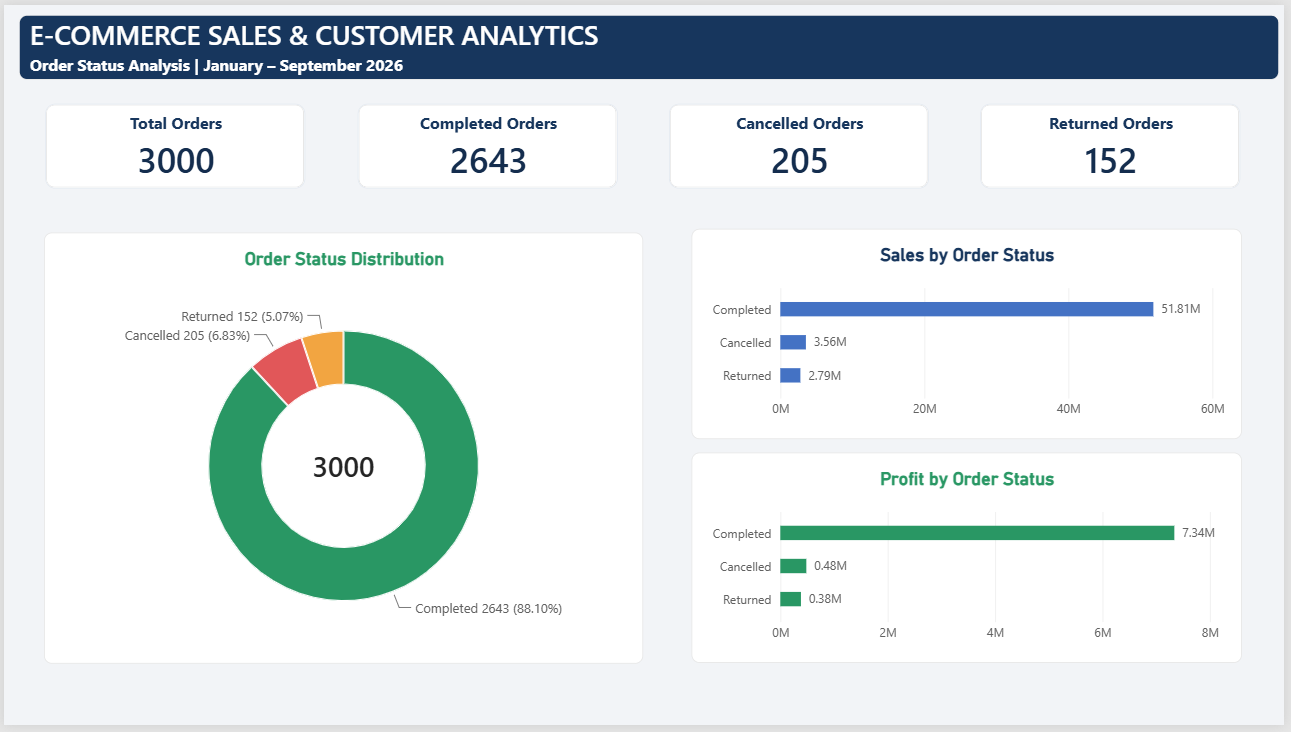

This screenshot's page, from the dashboard's own definition file:
{"tool":"powerbi","page":{"name":"Order_Status_Analysis","canvas":[1280,720],"ordinal":4},"visuals":[{"type":"clusteredBarChart","title":"Profit by Order Status","fields":{"Category":["ecommerce_sales_cleaned.Order Status"],"Y":["Sum(ecommerce_sales_cleaned.Profit)"]},"box":[688,448,550,210],"z":0},{"type":"clusteredBarChart","title":"Sales by Order Status","fields":{"Category":["ecommerce_sales_cleaned.Order Status"],"Y":["Sum(ecommerce_sales_cleaned.Sales)"]},"box":[688,224,550,210],"z":3000},{"type":"donutChart","title":"Order Status Distribution","fields":{"Category":["ecommerce_sales_cleaned.Order Status"],"Y":["CountNonNull(ecommerce_sales_cleaned.Order ID)"]},"box":[40.3,227.1,599.5,431.3],"z":4500},{"type":"cardVisual","fields":{"Data":["ecommerce_sales_cleaned.Total Orders"]},"box":[976.1,98.5,260,85],"z":4750},{"type":"cardVisual","fields":{"Data":["ecommerce_sales_cleaned.Total Orders"]},"box":[664.7,98.5,260,85],"z":5000},{"type":"cardVisual","fields":{"Data":["CountNonNull(ecommerce_sales_cleaned.Order ID)"]},"box":[353.2,98.5,260,85],"z":6000},{"type":"cardVisual","fields":{"Data":["ecommerce_sales_cleaned.Total Orders"]},"box":[41.8,98.5,260,85],"z":7000},{"type":"textbox","title":"E-COMMERCE SALES & CUSTOMER ANALYTICS","box":[15,10,1260,65],"z":7500}]}

Visuals, with their boxes in screenshot pixels (x1, y1, x2, y2), scaled from the page's 1280x720 canvas onto the 1291x732 screenshot:
"Profit by Order Status" clusteredBarChart: [x1=694, y1=455, x2=1249, y2=669]
"Sales by Order Status" clusteredBarChart: [x1=694, y1=228, x2=1249, y2=441]
"Order Status Distribution" donutChart: [x1=41, y1=231, x2=645, y2=669]
cardVisual - ecommerce_sales_cleaned.Total Orders: [x1=984, y1=100, x2=1247, y2=187]
cardVisual - ecommerce_sales_cleaned.Total Orders: [x1=670, y1=100, x2=933, y2=187]
cardVisual - CountNonNull(ecommerce_sales_cleaned.Order ID): [x1=356, y1=100, x2=618, y2=187]
cardVisual - ecommerce_sales_cleaned.Total Orders: [x1=42, y1=100, x2=304, y2=187]
"E-COMMERCE SALES & CUSTOMER ANALYTICS" textbox: [x1=15, y1=10, x2=1286, y2=76]
